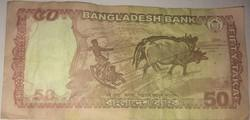50 taka: (6, 7, 244, 116)
